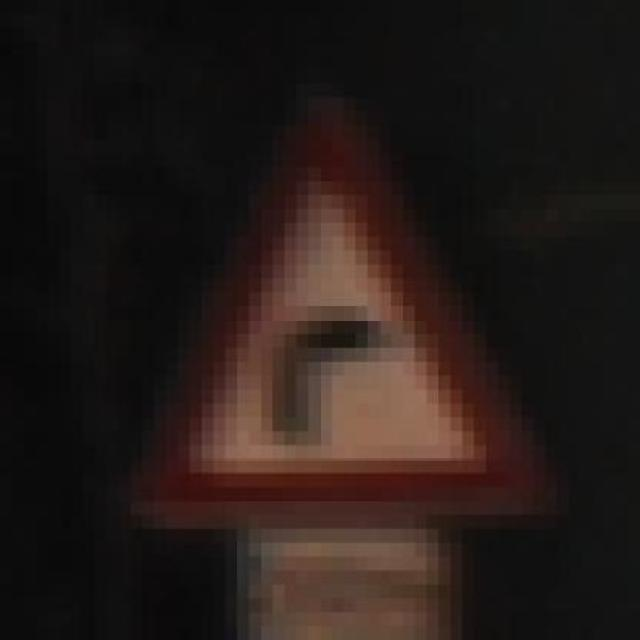Dangerous Rright Curve Ahead: (130, 111, 545, 543)
